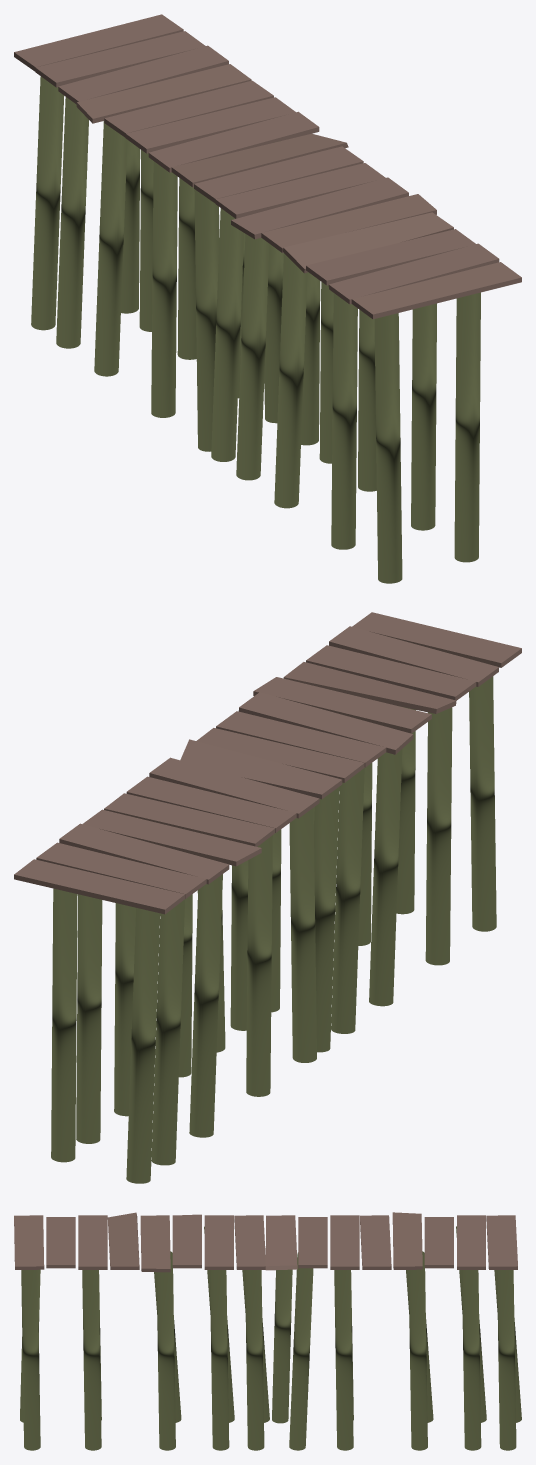
File: PIER2.fbx
The picture shows the model from 3 angles, top to bottom: view 1: azimuth 30°, elevation 25°; view 2: azimuth 150°, elevation 25°; view 3: azimuth 270°, elevation 25°; orthographic projection. The views are drawn at different scales.
Parts seen in each view (by area): view 1: Cube; view 2: Cube; view 3: Cube.
Part boxes in pixels (x1,y1,x2,y2): Cube: (14,14,521,583); Cube: (14,612,521,1183); Cube: (14,1212,521,1450).
Size of the model in its own units: 923 by 1491 by 3475.
